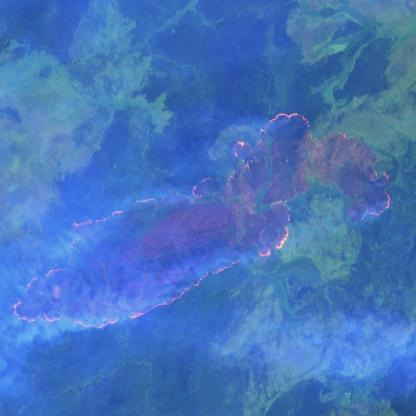fire: (0, 108, 416, 336)
